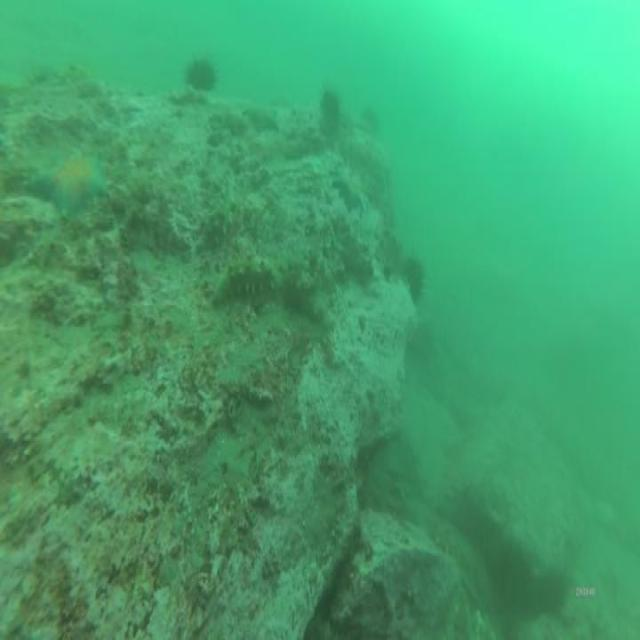echinus: (404, 253, 426, 305), (185, 60, 217, 90), (318, 88, 341, 118)
holothurian: (214, 254, 312, 302)
starfish: (33, 149, 107, 218)
